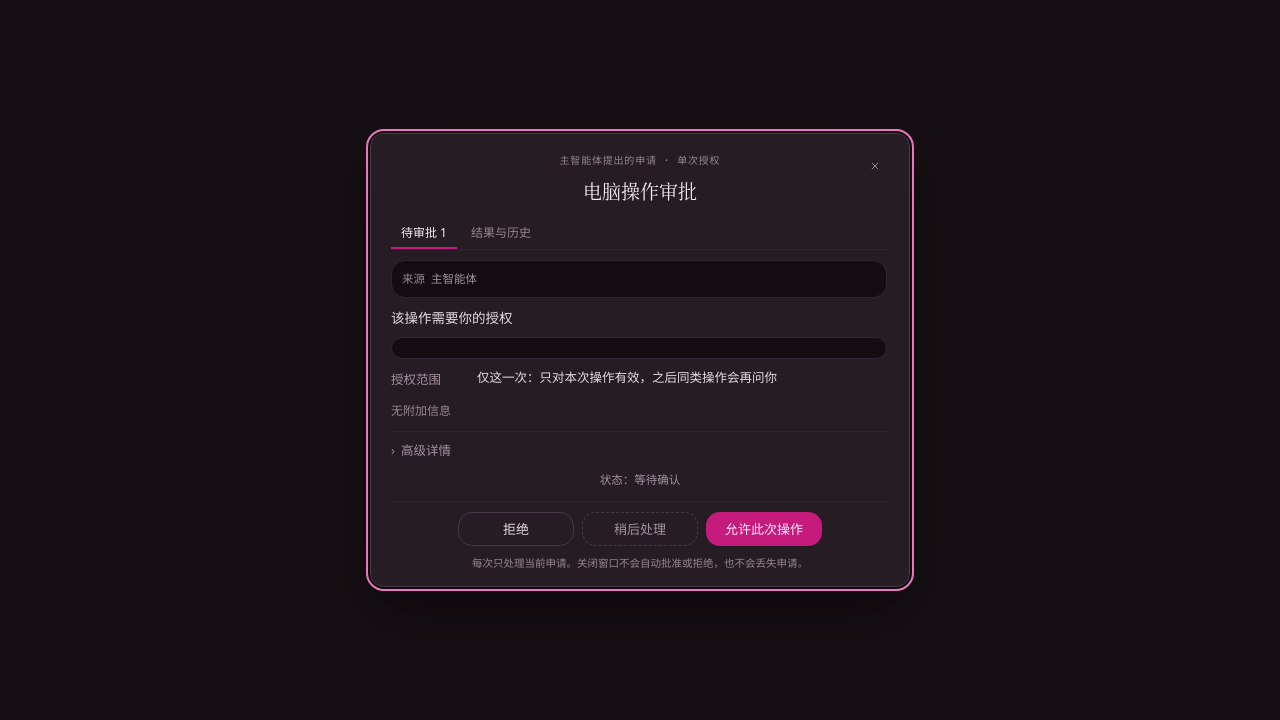
Test: 统一弹窗：R9 生命周期呈现 › 409 失败按「对象已变化」前缀如实显示后端原因
Click the button with test id "unified-approval-allow" at (764, 529), box left=706, top=512, right=822, bottom=546
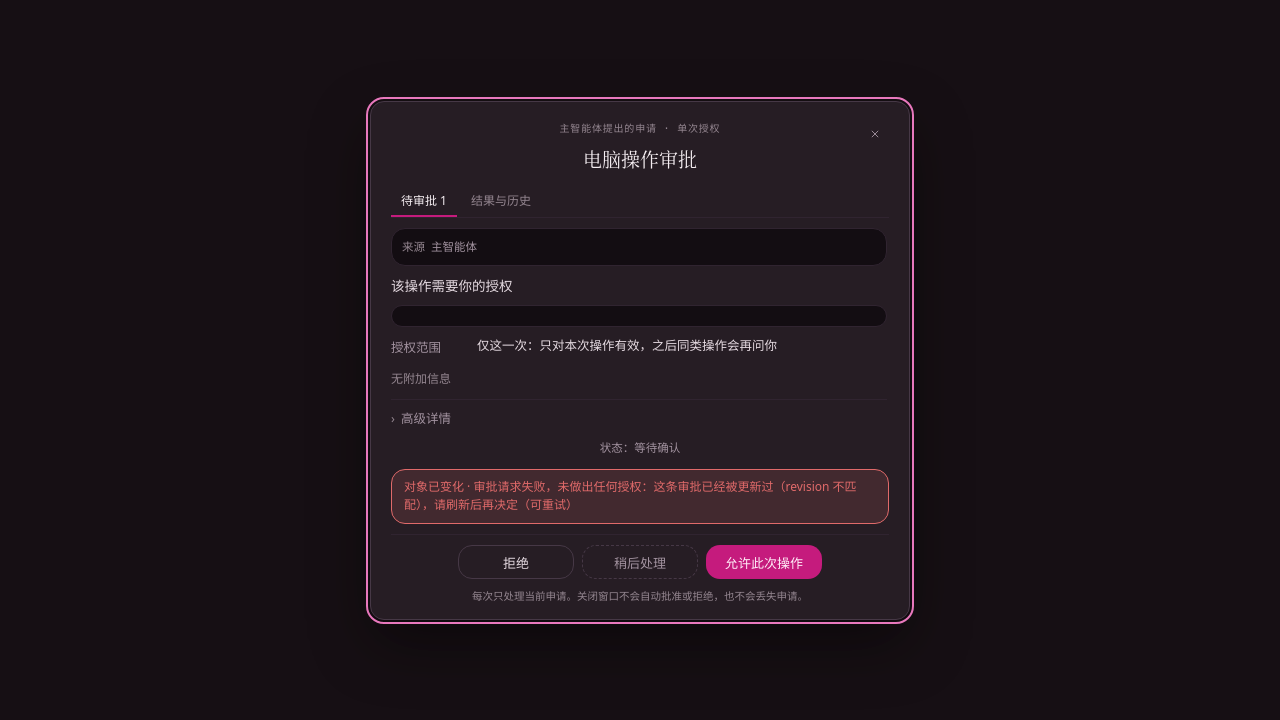
expect the message "对象已变化 · 审批请求失败，未做出任何授权：这条审批已经被更新过（revision 不匹配），请刷新后再决定（可重试）" is shown: met, box left=391, top=468, right=889, bottom=524
expect the message with class "ua-error" shows "对象已变化": met, box left=404, top=478, right=856, bottom=513
expect the message with class "ua-error" shows "revision 不匹配": met, box left=404, top=478, right=856, bottom=513
